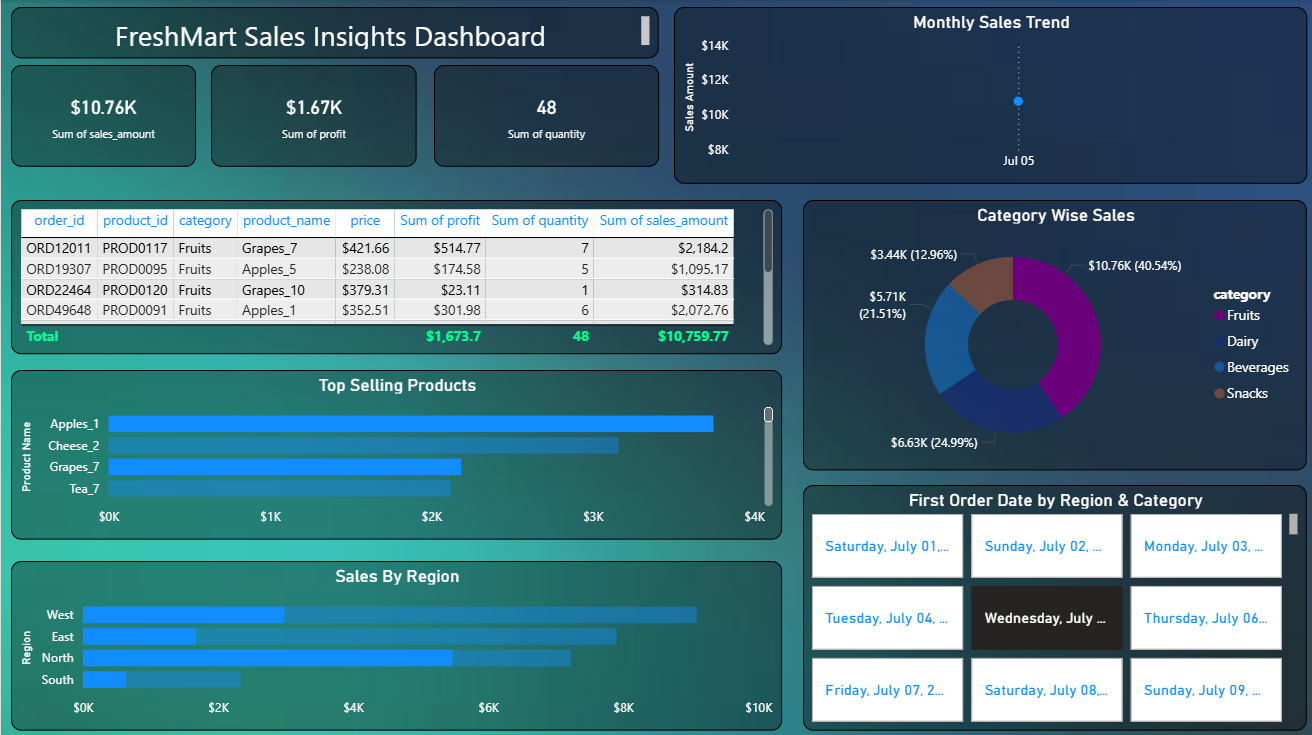

The dashboard page shown, as its layout file describes it:
{"tool":"powerbi","page":{"name":"Page 1","canvas":[1280,720],"ordinal":0},"visuals":[{"type":"textbox","box":[9.7,6.8,630.3,49.6],"z":0},{"type":"lineChart","title":"Monthly Sales Trend","fields":{"Y":["Sum(Sales.sales_amount)"],"Category":["Sales.order_date.Variation.Date Hierarchy.Year","Sales.order_date.Variation.Date Hierarchy.Quarter","Sales.order_date.Variation.Date Hierarchy.Month","Sales.order_date.Variation.Date Hierarchy.Day"]},"box":[654.6,6.8,615.7,172.2],"z":1000},{"type":"barChart","title":"Top Selling Products","fields":{"Category":["Products.product_name"],"Y":["Sum(Sales.sales_amount)"]},"box":[9.7,359.9,749.9,165.3],"z":2000},{"type":"donutChart","title":"Category Wise Sales","fields":{"Category":["Products.category"],"Y":["Sum(Sales.sales_amount)"]},"box":[780.1,194.5,490.2,262.6],"z":3000},{"type":"clusteredBarChart","title":"Sales By Region","fields":{"Category":["Customers.region"],"Y":["Sum(Sales.sales_amount)"]},"box":[9.7,545.7,749.9,165.3],"z":4000},{"type":"tableEx","fields":{"Values":["Sales.order_id","Sales.product_id","Products.category","Products.product_name","Products.price","Sum(Sales.profit)","Sum(Sales.quantity)","Sum(Sales.sales_amount)"]},"box":[9.7,194.5,749.9,149.8],"z":5000},{"type":"advancedSlicerVisual","title":"First Order Date by Region & Category","fields":{"Values":["Sales.order_date"]},"box":[780.1,471.7,490.2,239.3],"z":6000},{"type":"card","fields":{"Values":["Sum(Sales.sales_amount)"]},"box":[9.7,63.2,179.9,99.2],"z":7000},{"type":"card","fields":{"Values":["Sum(Sales.profit)"]},"box":[204.3,63.2,200.4,99.2],"z":8000},{"type":"card","fields":{"Values":["Sum(Sales.quantity)"]},"box":[421.2,63.2,218.8,99.2],"z":9000}]}

Visuals, with their boxes in screenshot pixels (x1, y1, x2, y2), scaled from the page's 1280x720 canvas onto the 1312x735 screenshot:
textbox: <box>10,7,656,58</box>
"Monthly Sales Trend" lineChart: <box>671,7,1302,183</box>
"Top Selling Products" barChart: <box>10,367,779,536</box>
"Category Wise Sales" donutChart: <box>800,199,1302,467</box>
"Sales By Region" clusteredBarChart: <box>10,557,779,726</box>
tableEx - Sales.order_id x Sales.product_id: <box>10,199,779,351</box>
"First Order Date by Region & Category" advancedSlicerVisual: <box>800,482,1302,726</box>
card - Sum(Sales.sales_amount): <box>10,65,194,166</box>
card - Sum(Sales.profit): <box>209,65,415,166</box>
card - Sum(Sales.quantity): <box>432,65,656,166</box>
